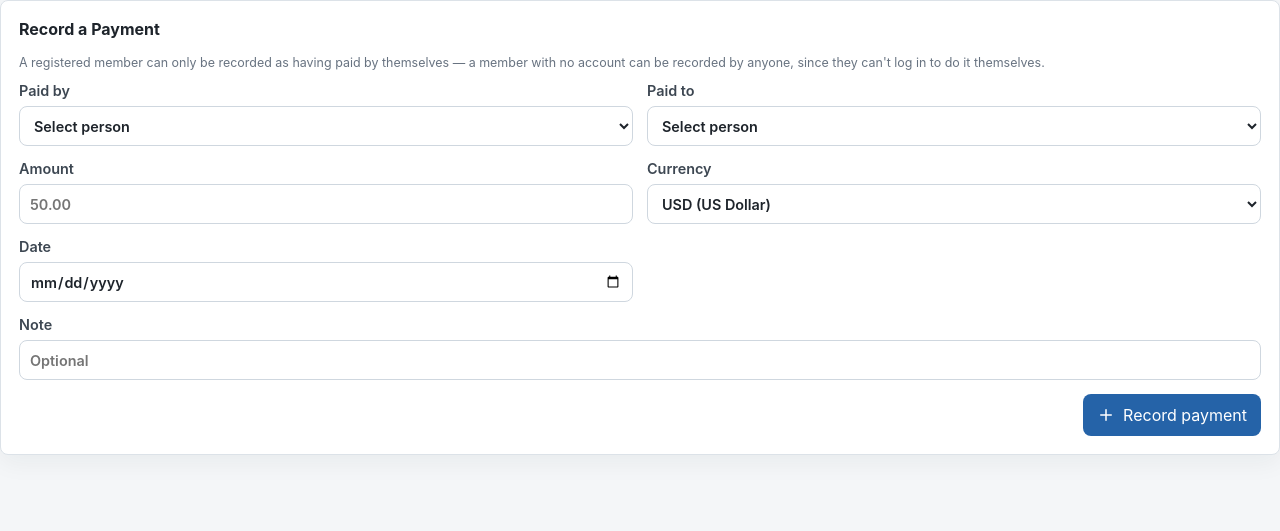
Test: PaymentsPanel › shows an error and does not submit when payer and recipient are the same
The image size is (1280, 531).
Step 1. Select "Gujing" in the dropdown labelled "Paid by" → (326,126), box [19, 106, 633, 146]
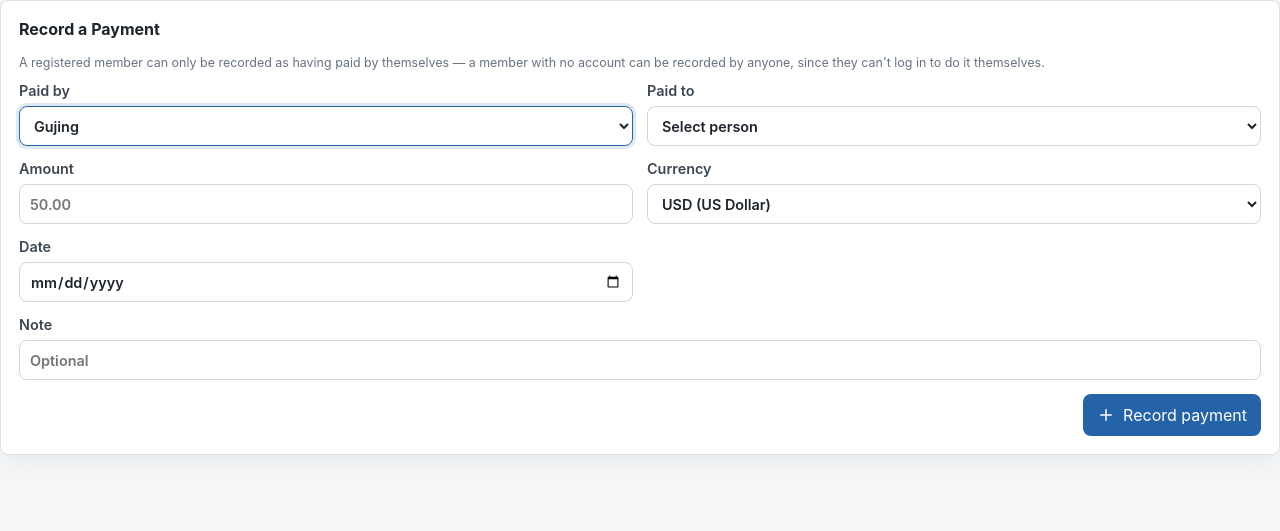
Step 2. Select "Gujing" in the dropdown labelled "Paid to" → (954,126), box [647, 106, 1261, 146]
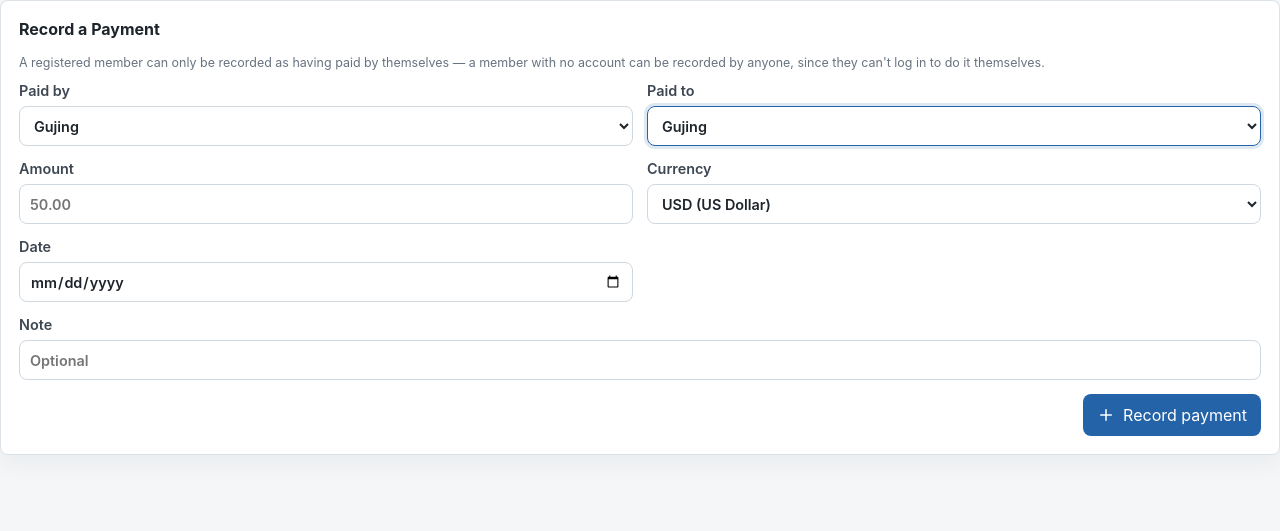
Step 3. Type "30" into the number field labelled "Amount" → (326,204), box [19, 184, 633, 224]
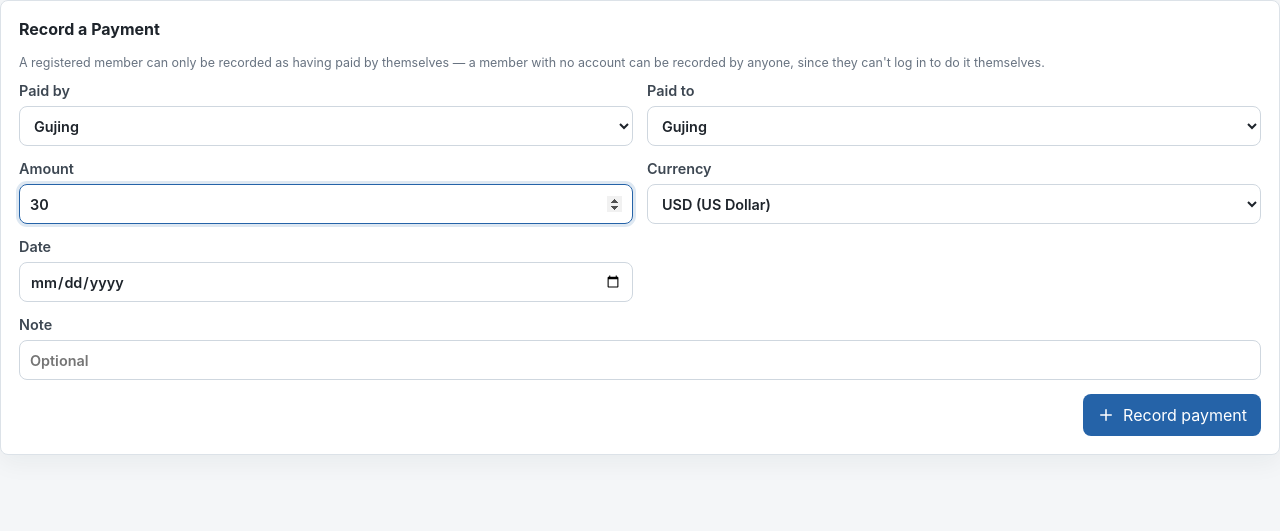
Step 4. Click the button "Record payment" → (1172,416), box [1083, 394, 1261, 436]
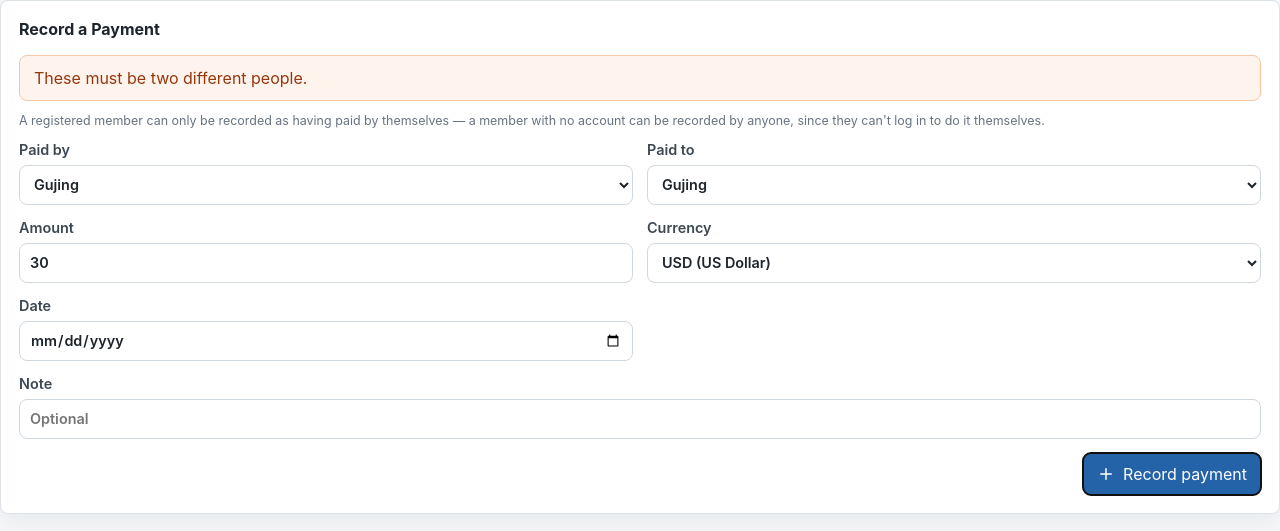
Result: the text "These must be two different people." is shown at [19, 55, 1261, 101]
